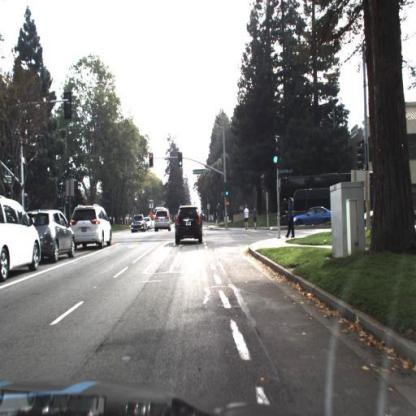car: (2, 197, 42, 283), (39, 207, 77, 262), (73, 201, 114, 249), (175, 202, 206, 248), (294, 204, 335, 230), (295, 207, 334, 231), (156, 206, 173, 233), (132, 212, 147, 235)
pedestrian: (286, 197, 295, 238), (243, 203, 251, 231), (253, 204, 260, 230)
trafficLight-Green: (271, 137, 279, 166), (179, 153, 184, 167), (225, 185, 230, 199)
trafficLight-GreenLeft: (148, 149, 155, 171)
trafficLight-RedLeft: (149, 155, 154, 167)
truck: (274, 174, 349, 227)
